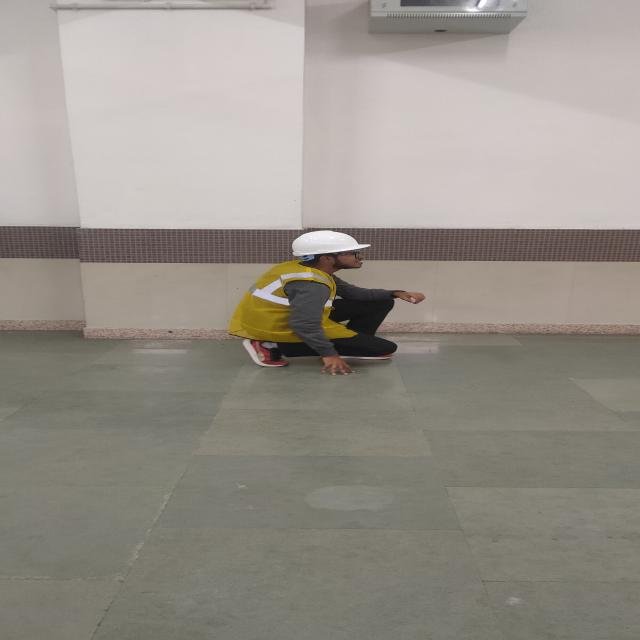safe: (228, 230, 398, 366)
